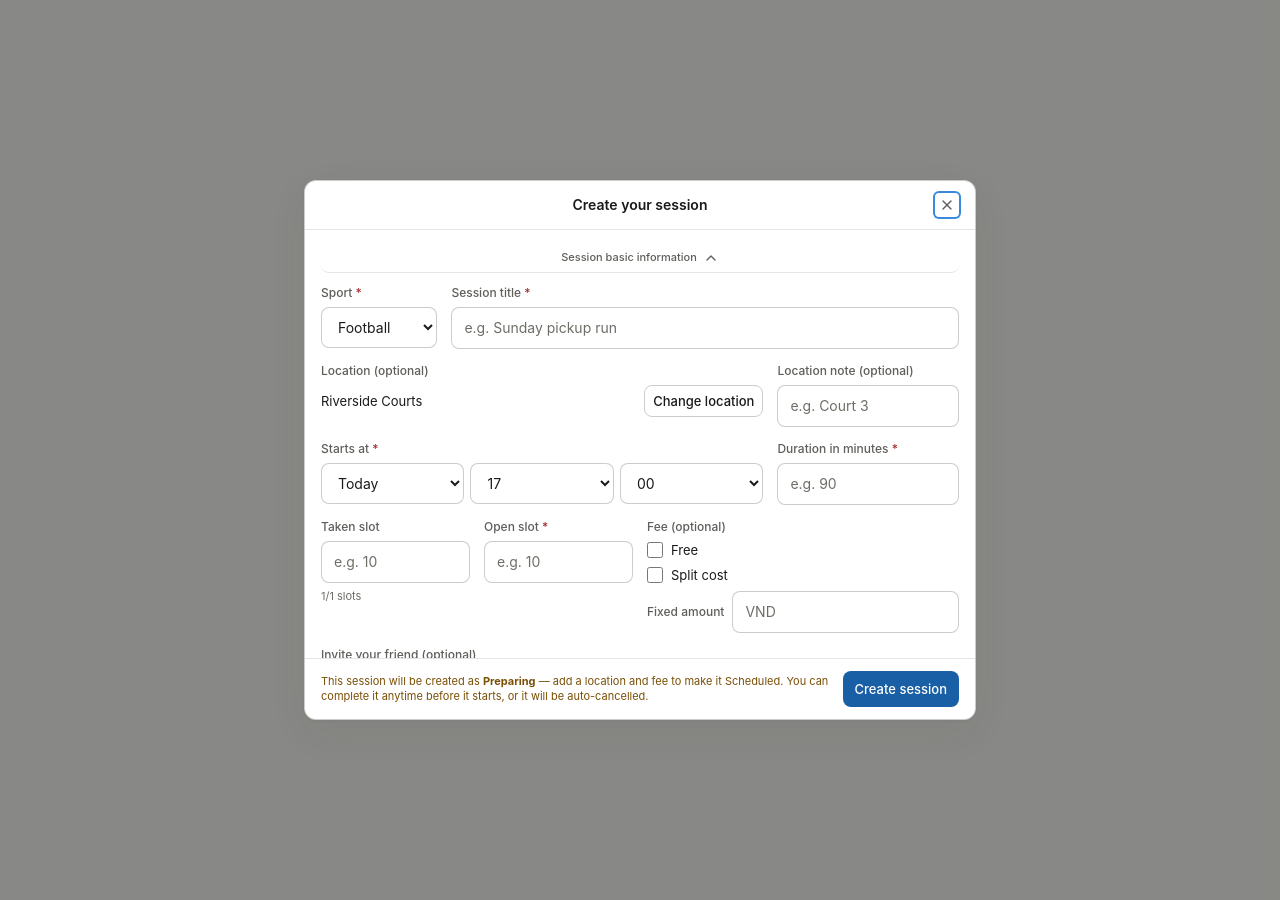
Scenario: CreateSessionModal › CLIENT-SESSION-21: PREPARING warning (SESSION-24) › hides the warning once both Location and Fee are set
Click the checkbox labelled "Free".
click(655, 550)  # box [647,542,663,558]
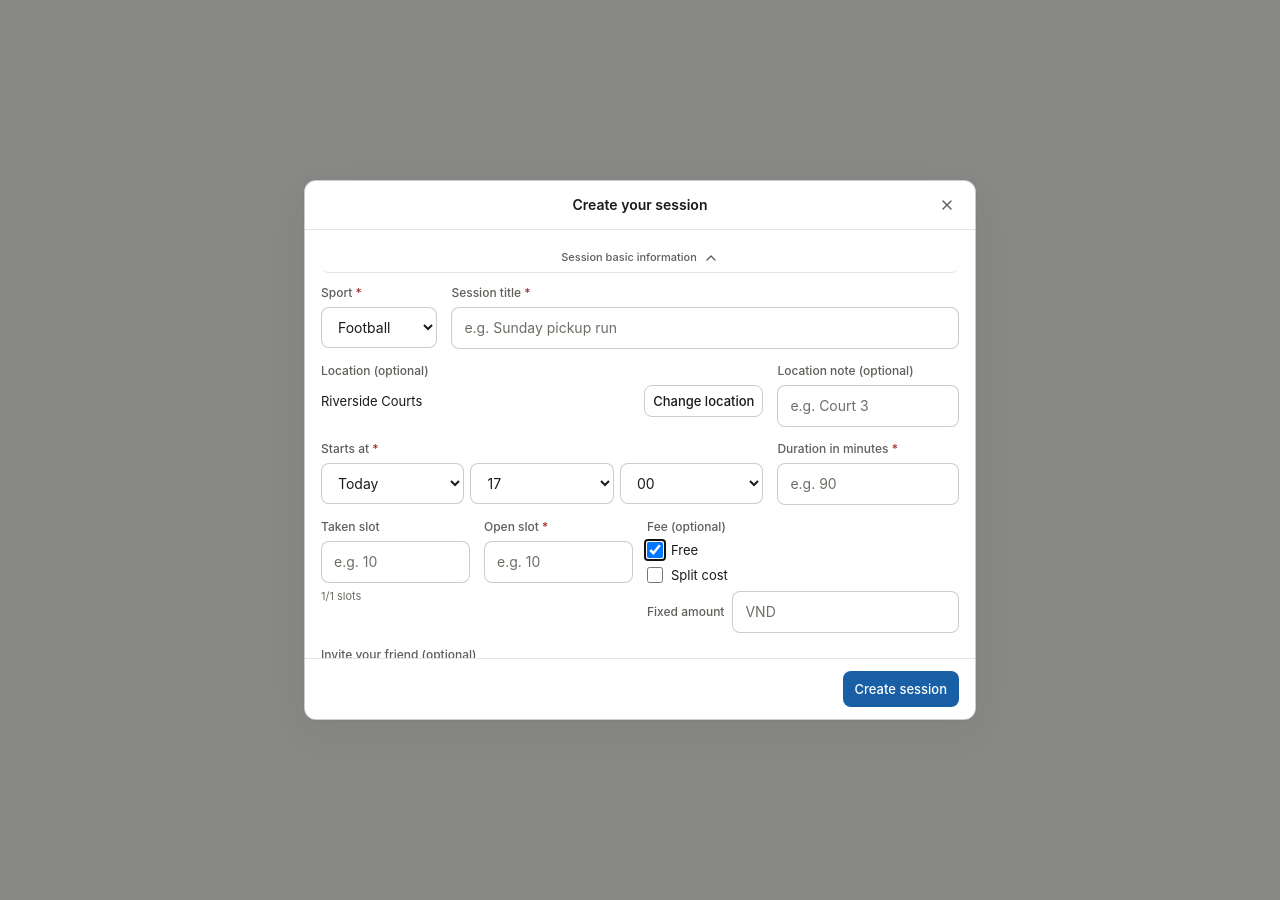
Expected: the text "will be created as" is gone
